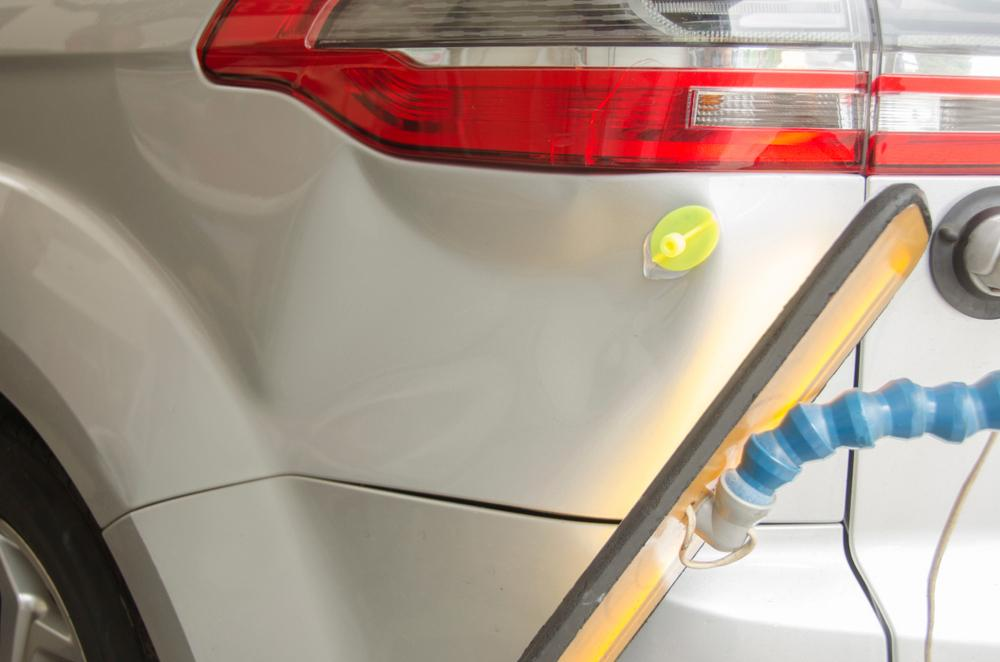dent: (270, 148, 719, 500)
